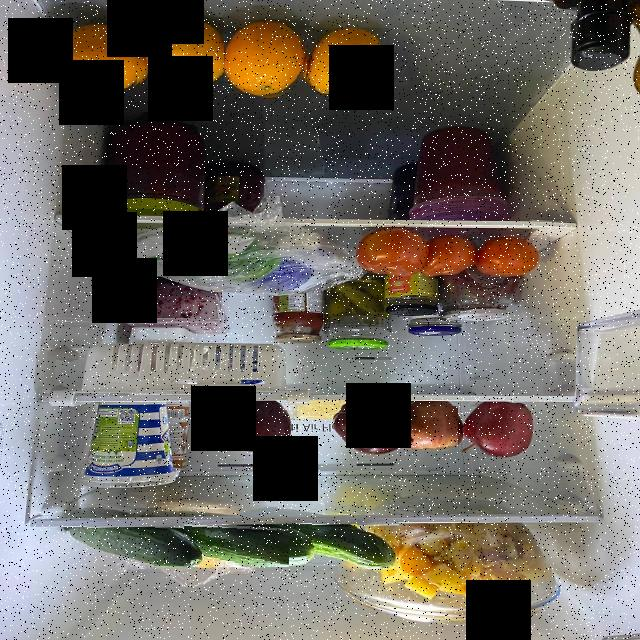Apple: (328, 403, 408, 459), (458, 404, 540, 456), (389, 406, 463, 458), (224, 403, 290, 461)
Cucumber: (53, 520, 203, 566), (184, 522, 314, 567), (289, 520, 399, 569)
Orange: (224, 19, 310, 101), (137, 17, 227, 91), (55, 21, 141, 97), (306, 28, 390, 105)
Tomato: (354, 228, 434, 274), (478, 234, 548, 277), (422, 231, 480, 280)
